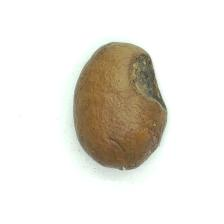NG: (125, 47, 168, 117)
